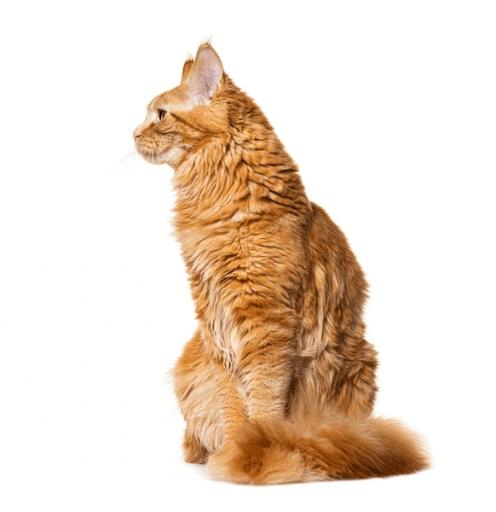cat_sitting: (133, 43, 429, 484)
